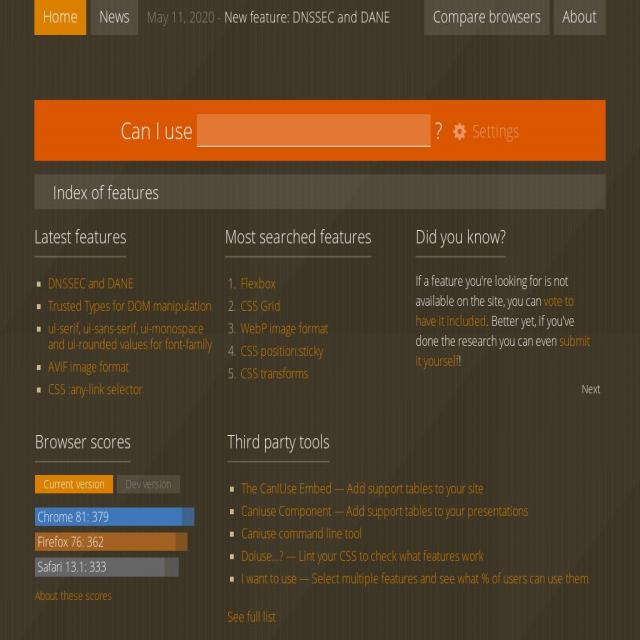list: (238, 465, 598, 640), (34, 255, 221, 422), (222, 252, 348, 433)
navigation-links: (230, 454, 598, 628), (30, 248, 345, 402)
search: (101, 98, 455, 155)
